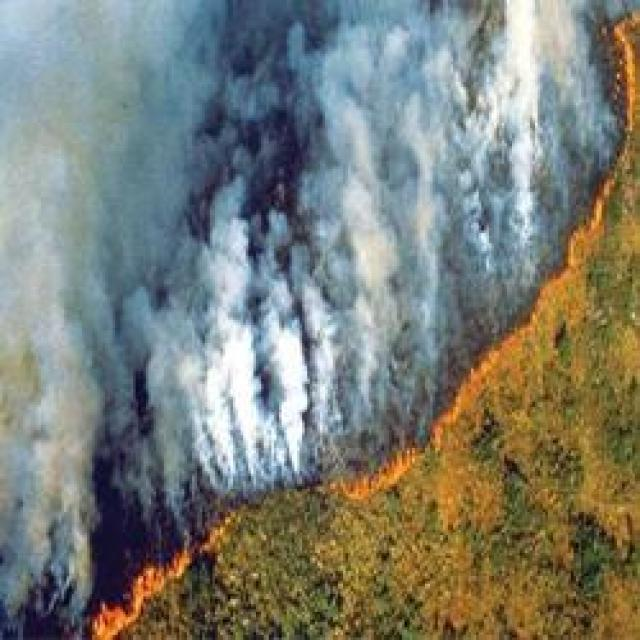Fire: (321, 228, 632, 537), (59, 493, 264, 640)
Smoke: (0, 1, 602, 314), (0, 4, 346, 484)
